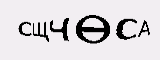Ө: (74, 12, 114, 49)
